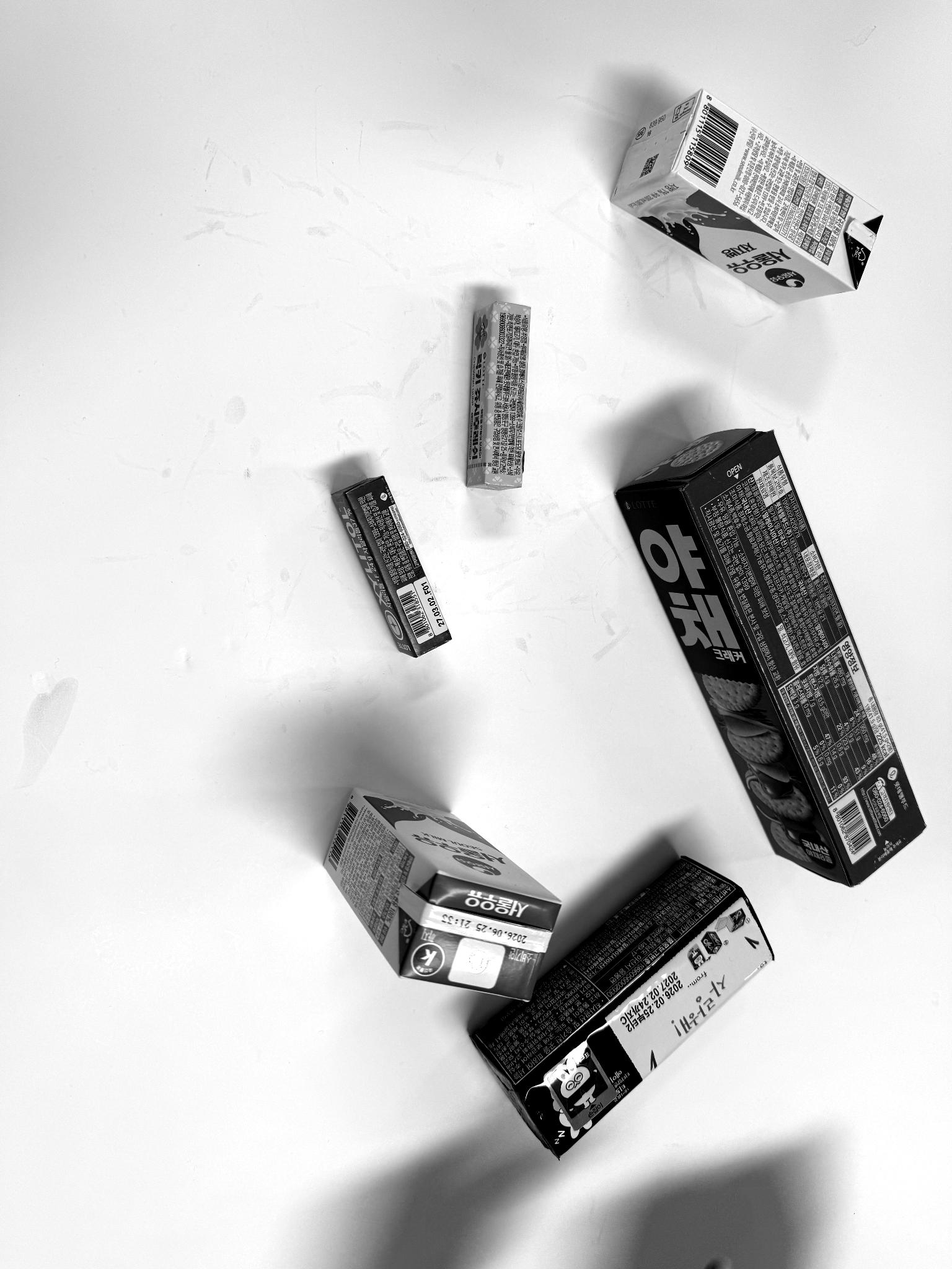cracker_ace: (473, 857, 773, 1157)
cracker_vege: (616, 429, 923, 884)
gum_green: (333, 476, 451, 657)
gum_yellow: (466, 302, 530, 489)
milk_green: (612, 88, 882, 303), (325, 788, 560, 1000)
